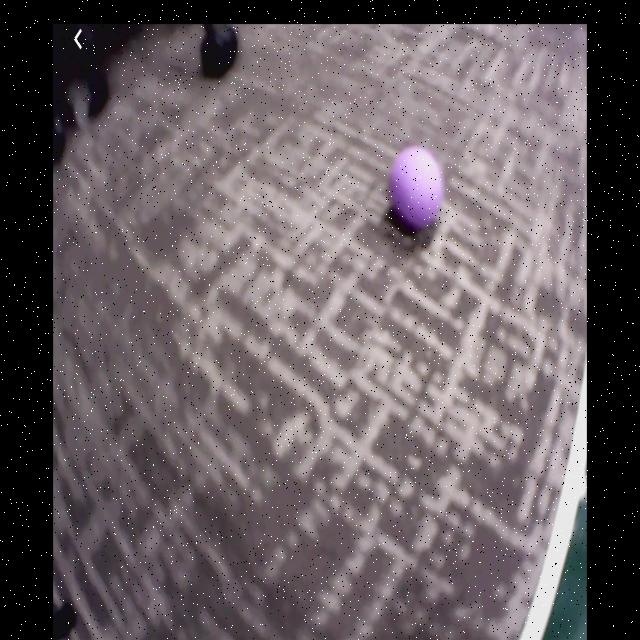ball: (391, 147, 443, 229)
